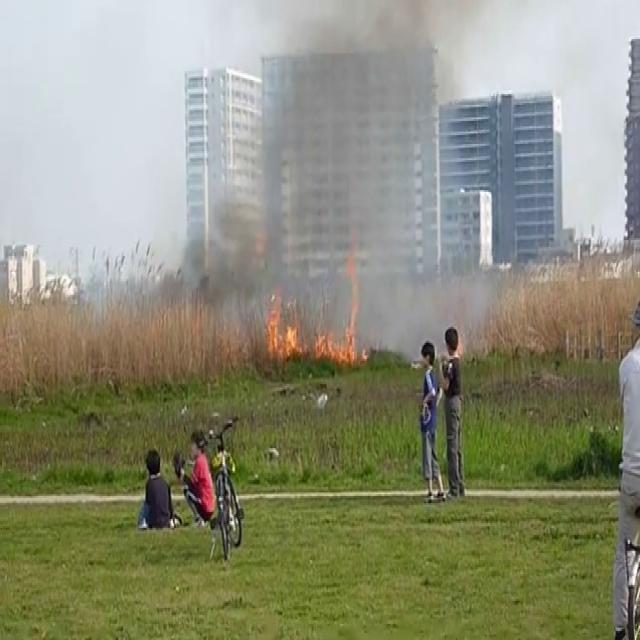Fire: (258, 284, 370, 368)
Smoke: (116, 0, 453, 347)
